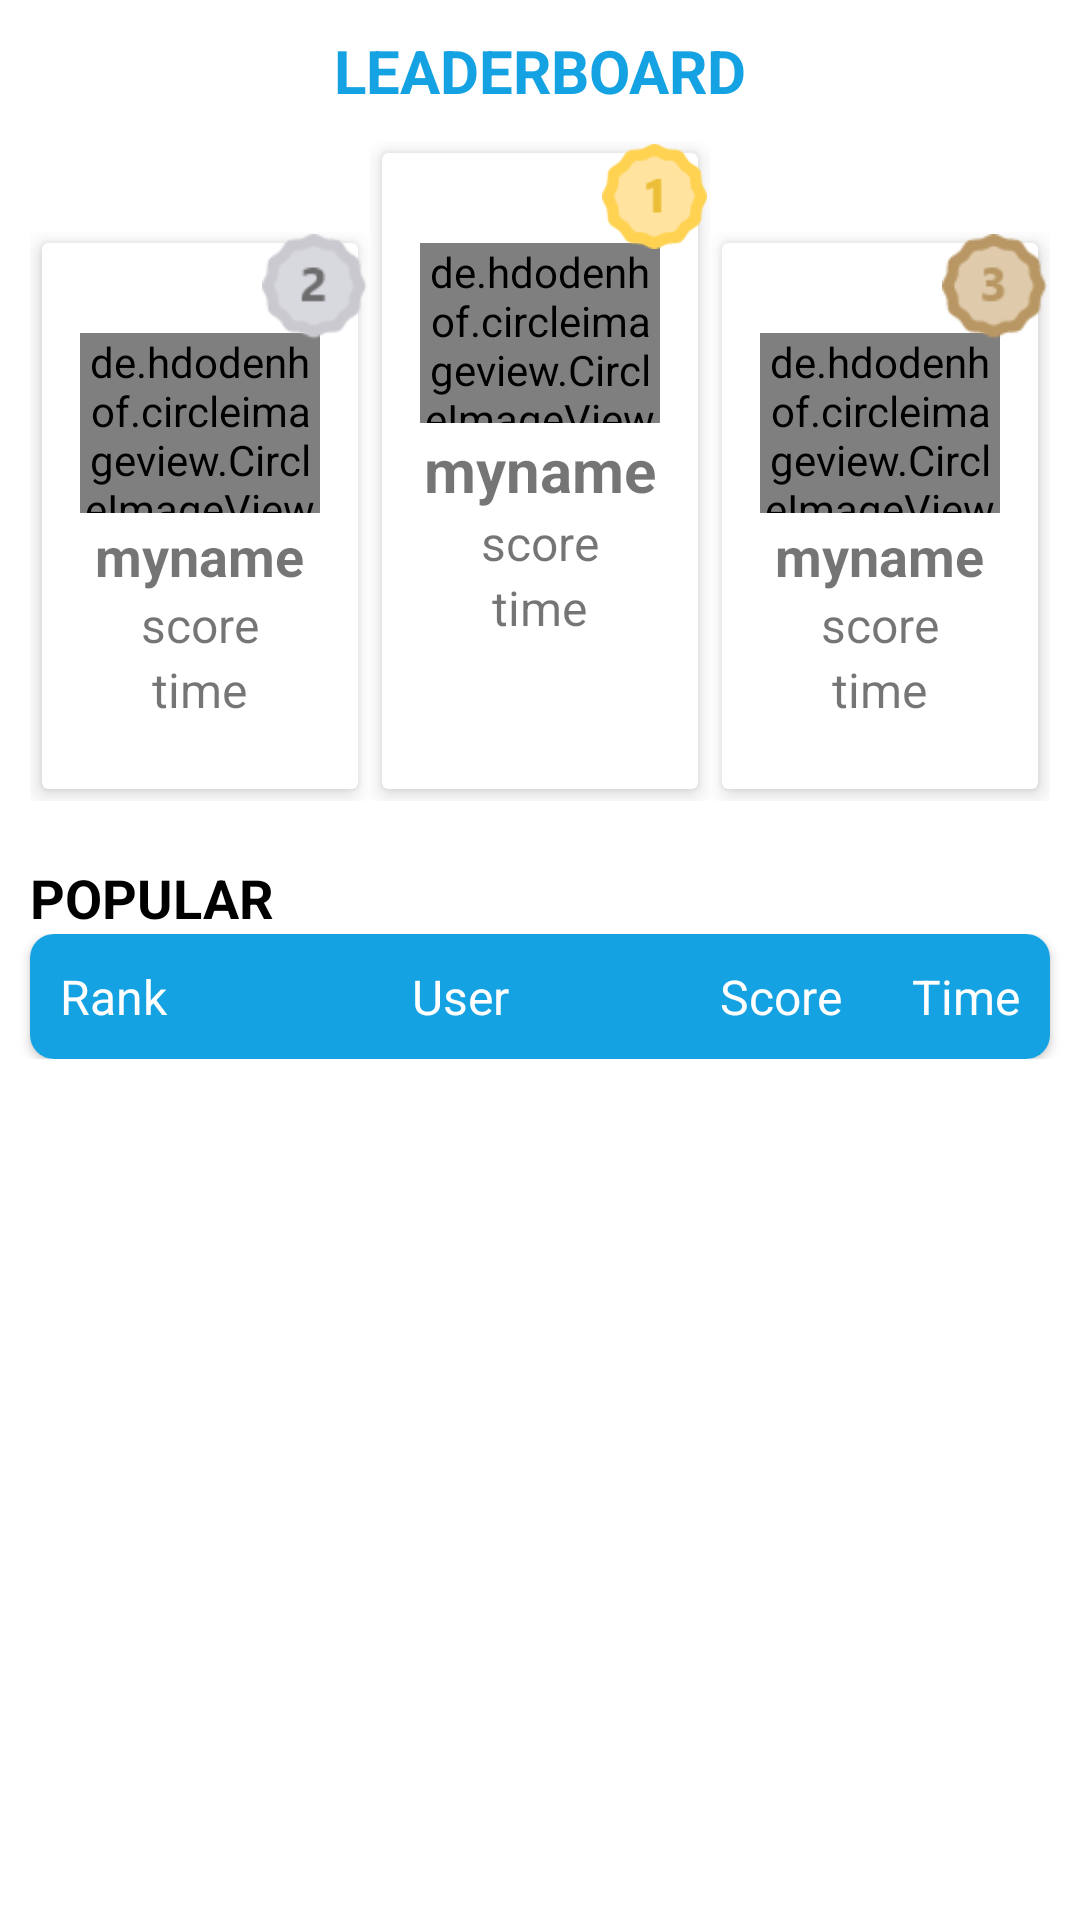

Where to tap for icons on this 1080*1920 app screen, as [x,y]:
bronzemedal: [994,286]
rank medal: [654,196]
silvermedal: [313,286]
